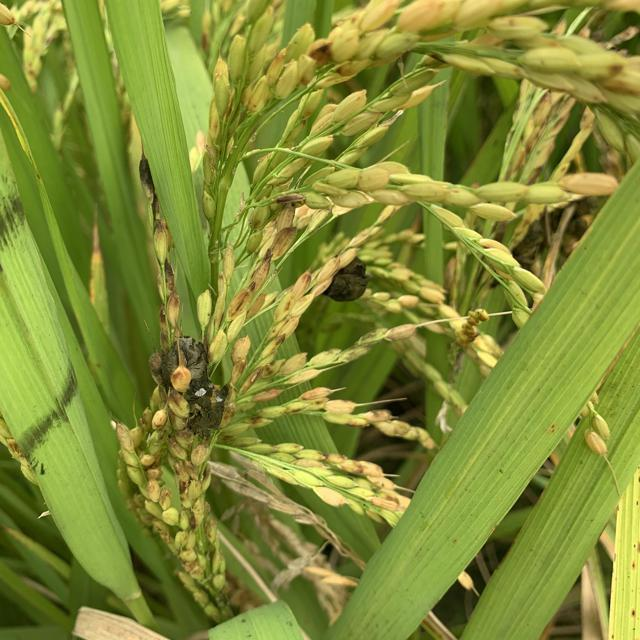Leaf_Scald: (152, 337, 230, 432), (322, 251, 370, 302)
